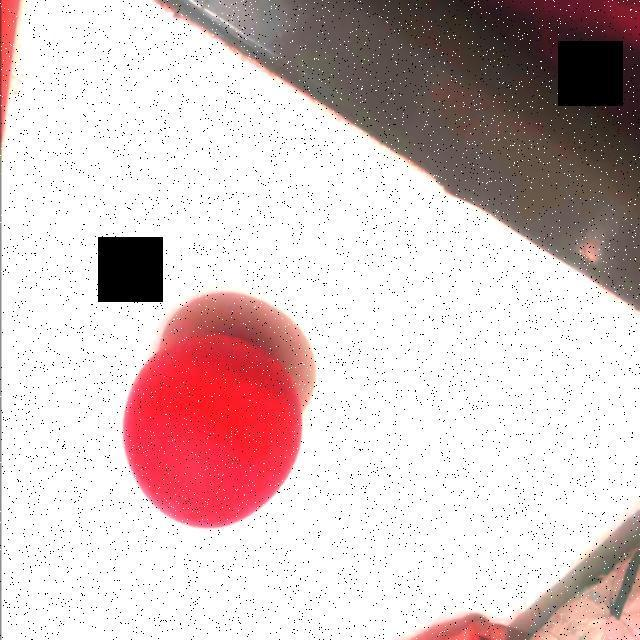egg: (120, 326, 304, 536)
